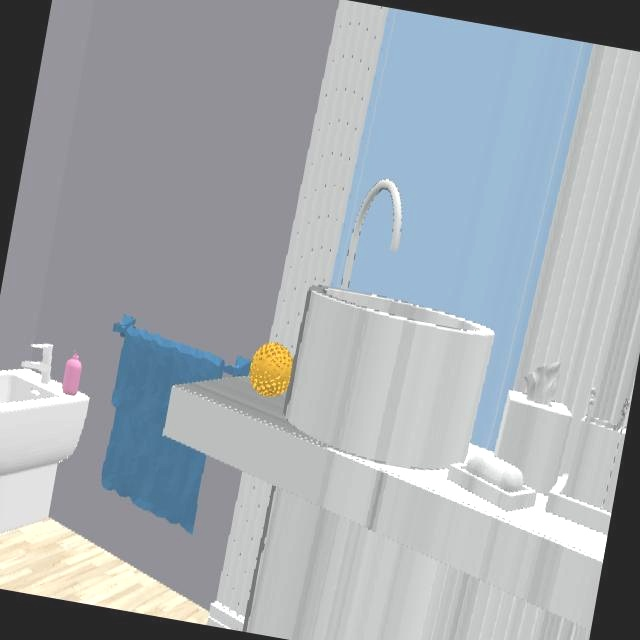shelf: (165, 378, 606, 627)
washbasin: (285, 179, 494, 468), (0, 344, 89, 475)
